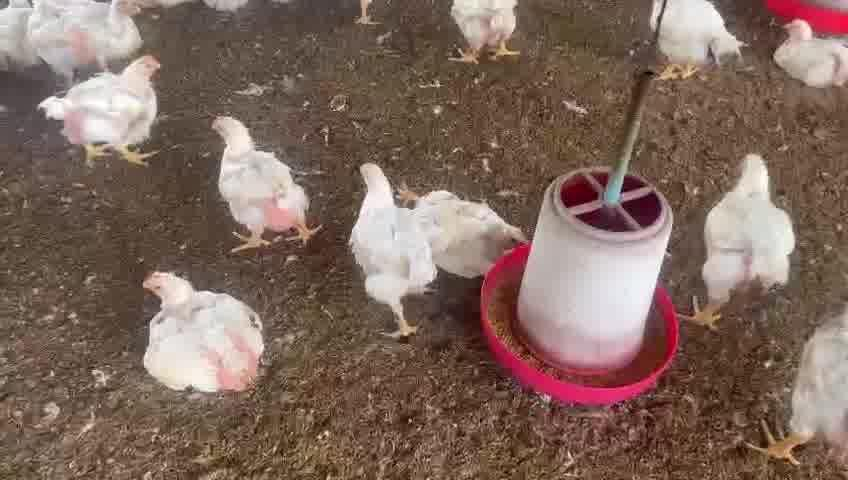AbNormal: (399, 170, 536, 271), (742, 15, 848, 94)
Normal: (685, 145, 808, 324), (133, 258, 284, 388), (342, 155, 440, 341), (205, 105, 325, 255), (41, 54, 169, 171), (35, 0, 156, 84), (644, 0, 754, 78), (443, 0, 536, 76)
